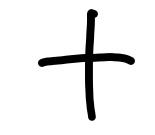plus: (39, 11, 133, 121)
